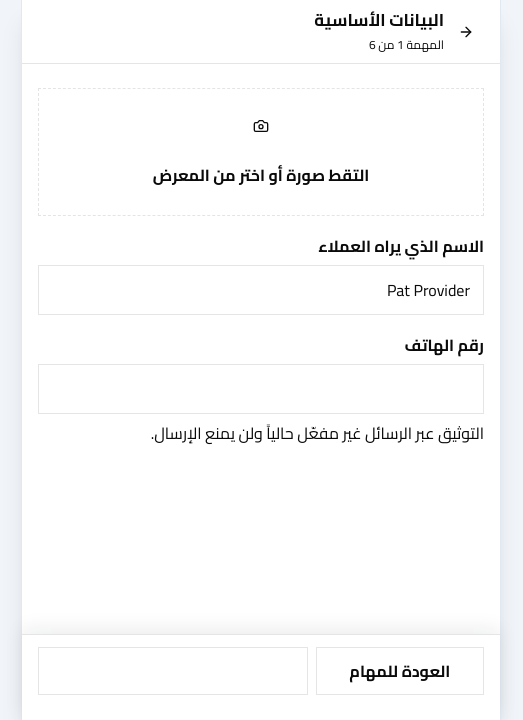
Test case: a failed flush keeps the provider on the task › renders the blocked-exit reason in Arabic
Replace the text in the field with test id "field-displayName" with "x" at (261, 290), box x1=38 y1=265 x2=484 y2=315
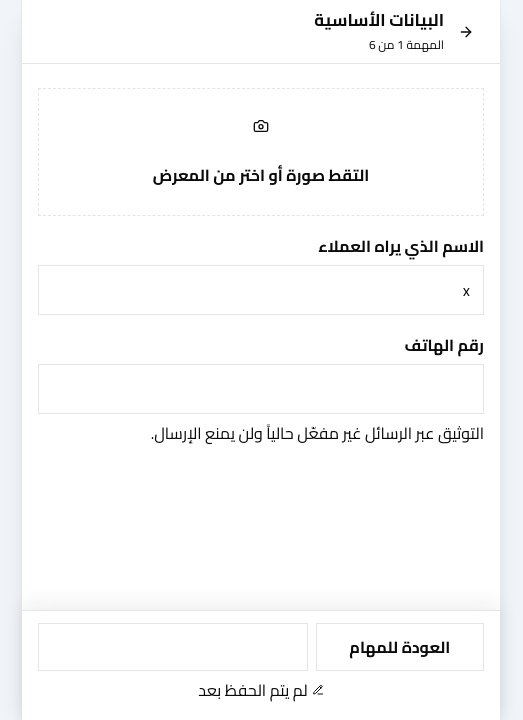
Click the button with test id "onboarding-v2-close" at (466, 32), box x1=444 y1=10 x2=488 y2=54
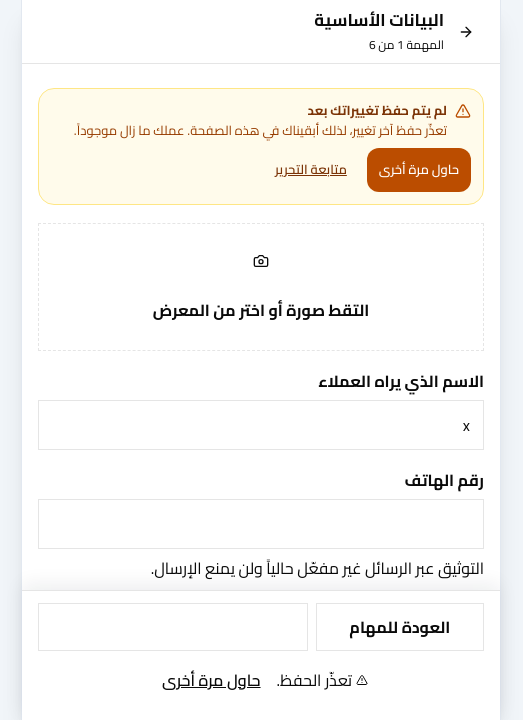
Expected: the message with test id "onboarding-exit-blocked" is shown, x1=38 y1=88 x2=484 y2=205
Expected: the text "لم يتم حفظ تغييراتك بعد" is shown, x1=308 y1=98 x2=447 y2=122
